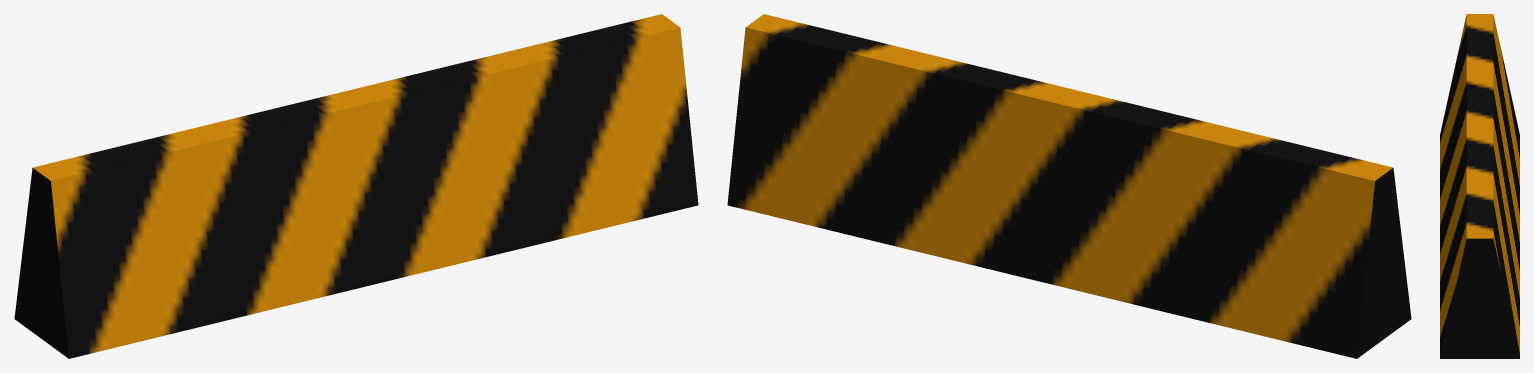
The model's file is Prop_Roadblock_A.fbx.
3 views of the same model, side by side, from view 1: azimuth 30°, elevation 25°; view 2: azimuth 150°, elevation 25°; view 3: azimuth 270°, elevation 25° (orthographic). The views are drawn at different scales.
Visible parts, largest first — view 1: Prop_Roadblock_A; view 2: Prop_Roadblock_A; view 3: Prop_Roadblock_A.
Part boxes in pixels (<box>): Prop_Roadblock_A: <box>14,14,698,358</box>; Prop_Roadblock_A: <box>727,14,1411,358</box>; Prop_Roadblock_A: <box>1440,14,1519,358</box>.
Bounding box in the file's own units: 400 × 100 × 60.
